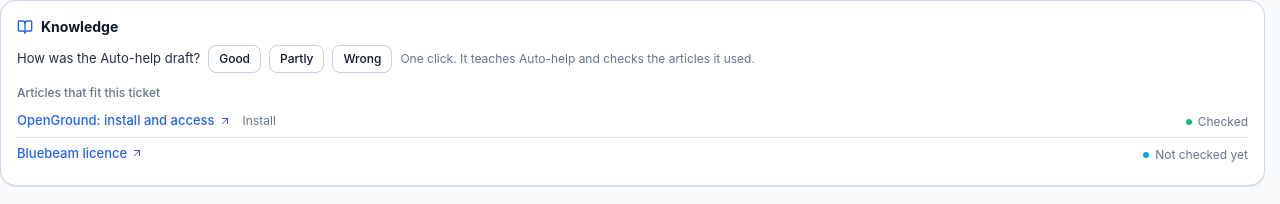
Test: TicketKnowledgeCard › one click judges the draft, and the verdict is shown in words
expect the text "How was the Auto-help draft?" is shown: met, box [17, 49, 200, 69]
What coordinates should you click on to do the following:
click the button "Good"
I would click on:
 (235, 59)
Its box is [208, 45, 261, 73].
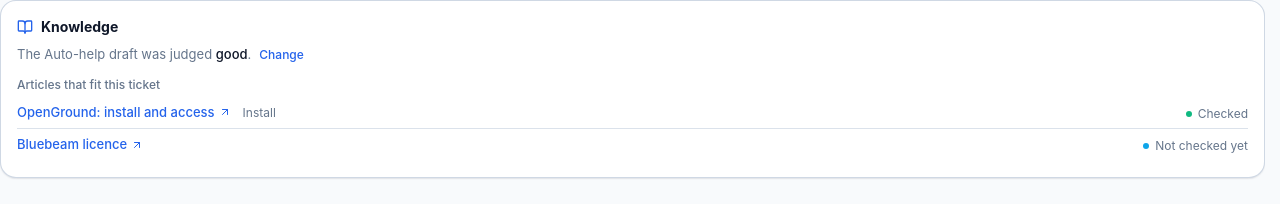
expect the text "good" is shown: met, box [216, 46, 248, 62]
expect the button "Wrong" is gone: met
